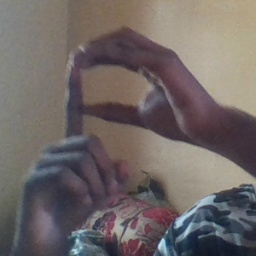P: (35, 24, 192, 203)
